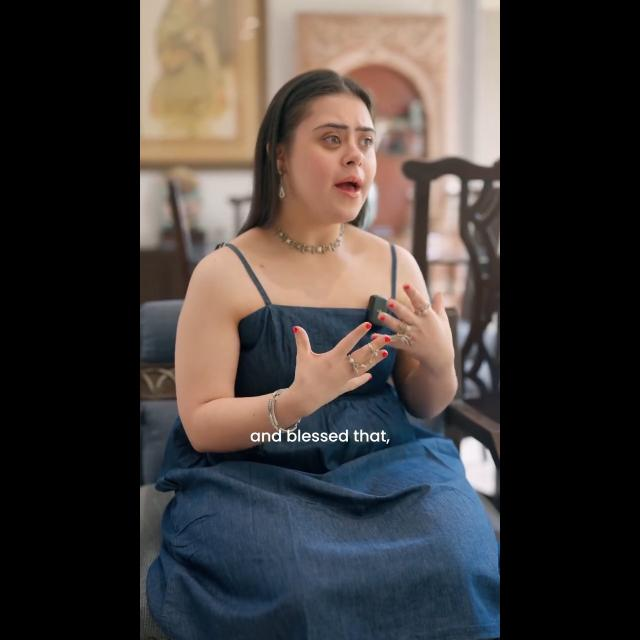dress: (177, 238, 499, 640)
ring: (340, 346, 382, 370)
